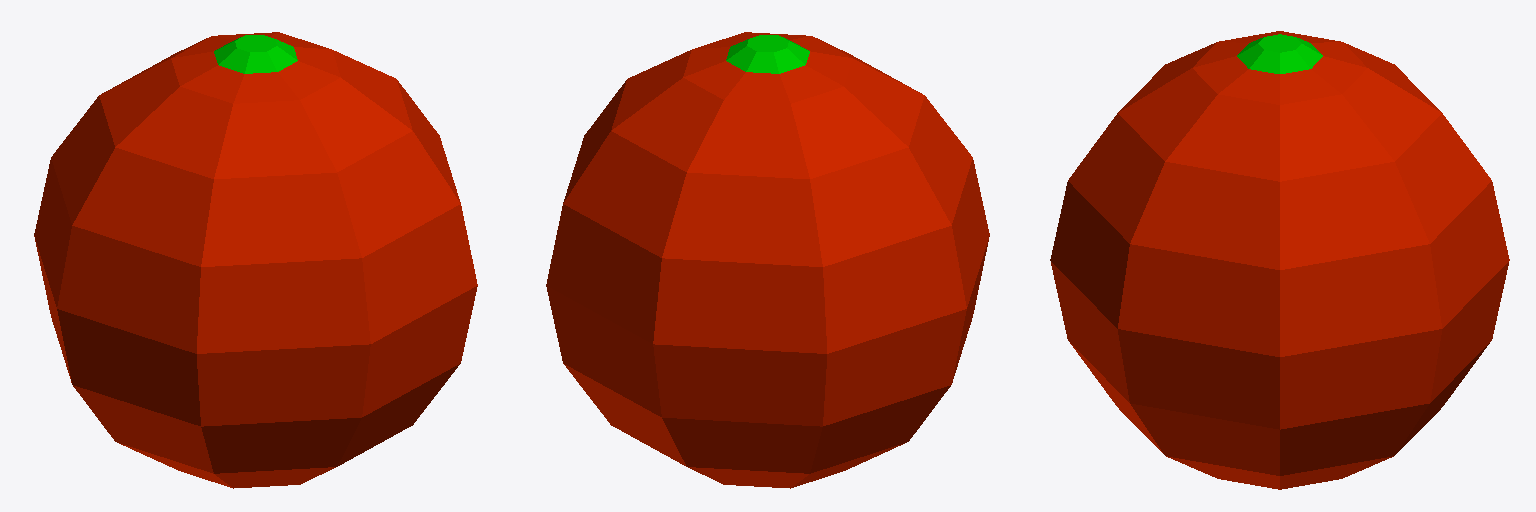
The model's file is orange_clr.obj.
3 renders of one model, left to right at view 1: azimuth 30°, elevation 25°; view 2: azimuth 150°, elevation 25°; view 3: azimuth 270°, elevation 25°, orthographic.
Visible parts, largest first — view 1: Orange; view 2: Orange; view 3: Orange.
Part boxes in pixels (x1,y1,x2,y2): Orange: (34, 32, 477, 488); Orange: (546, 32, 989, 488); Orange: (1050, 31, 1509, 489).
Size of the model in its own units: 2.54 by 2.6 by 2.54.